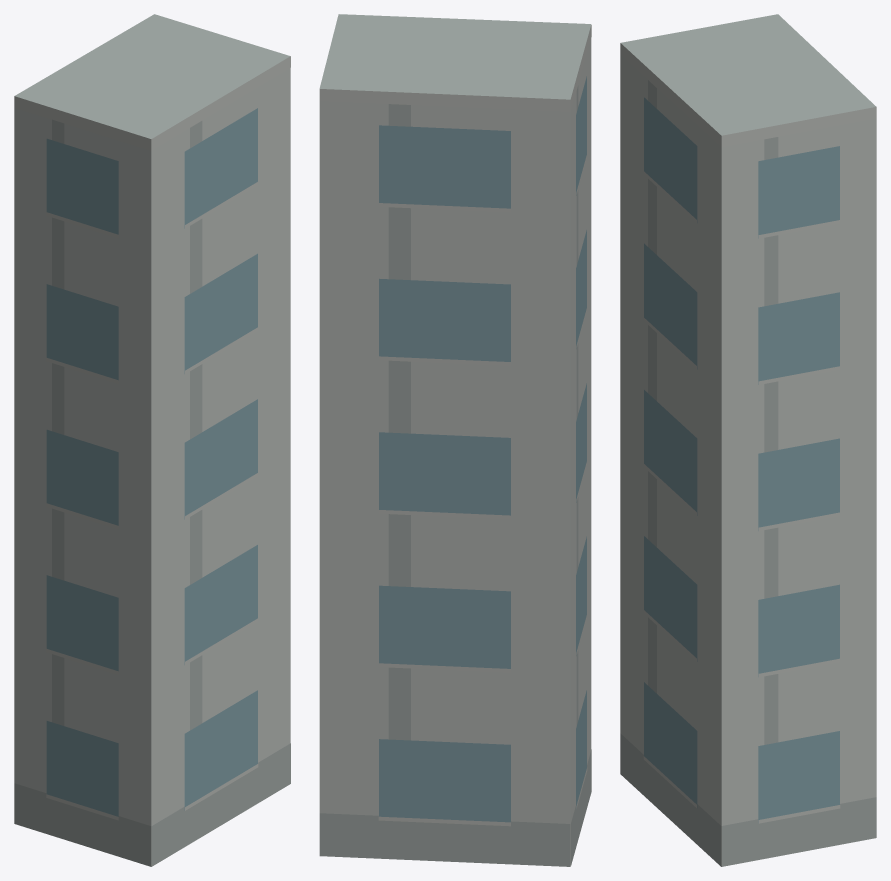
The model's file is survey-upis-32573445.glb.
3 renders of one model, left to right at view 1: azimuth 30°, elevation 25°; view 2: azimuth 150°, elevation 25°; view 3: azimuth 270°, elevation 25°, orthographic. The views are drawn at different scales.
Parts seen in each view (by area): view 1: survey-upis-32573445.tmp; view 2: survey-upis-32573445.tmp; view 3: survey-upis-32573445.tmp.
Part boxes in pixels (left/top/right/bottom): survey-upis-32573445.tmp: left=14, top=14, right=290, bottom=866; survey-upis-32573445.tmp: left=319, top=14, right=591, bottom=866; survey-upis-32573445.tmp: left=620, top=14, right=876, bottom=866.
Bounding box in the file's own units: 5.45 × 15.25 × 4.85.
